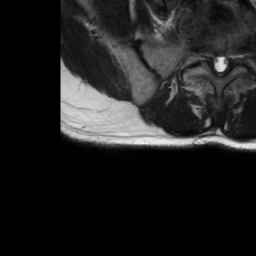CCS_stenosis: (217, 46, 224, 83)
LFS_stenosis: (232, 42, 241, 68)
LLS_normal: (224, 46, 232, 77)
RFS_stenosis: (202, 42, 211, 69)
RLS_stenosis: (210, 44, 217, 76)
